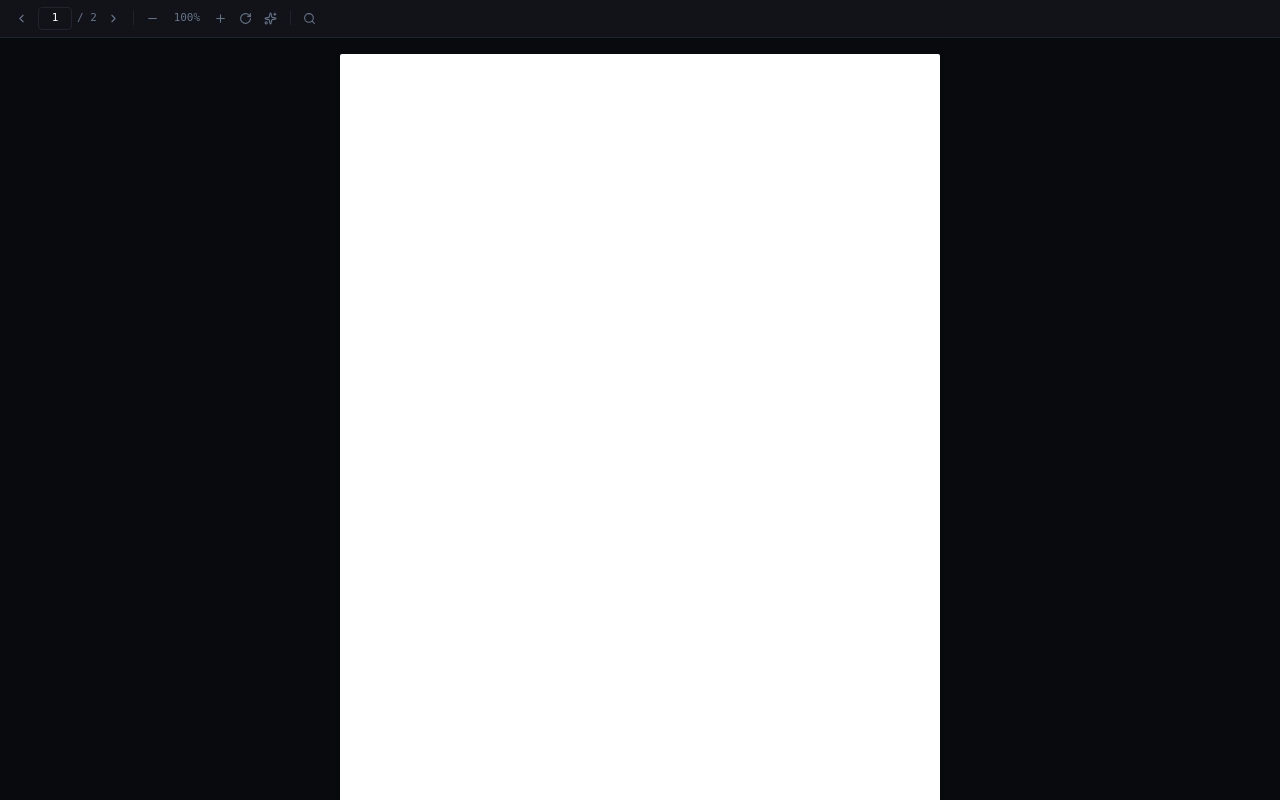
Scenario: PdfViewer › finds text across pages and steps through matches
Expected: the text "/ 2" is shown, [77,10,97,26]
Click the button named "Search in document". click: x=310, y=18
box: [299,7,321,29]
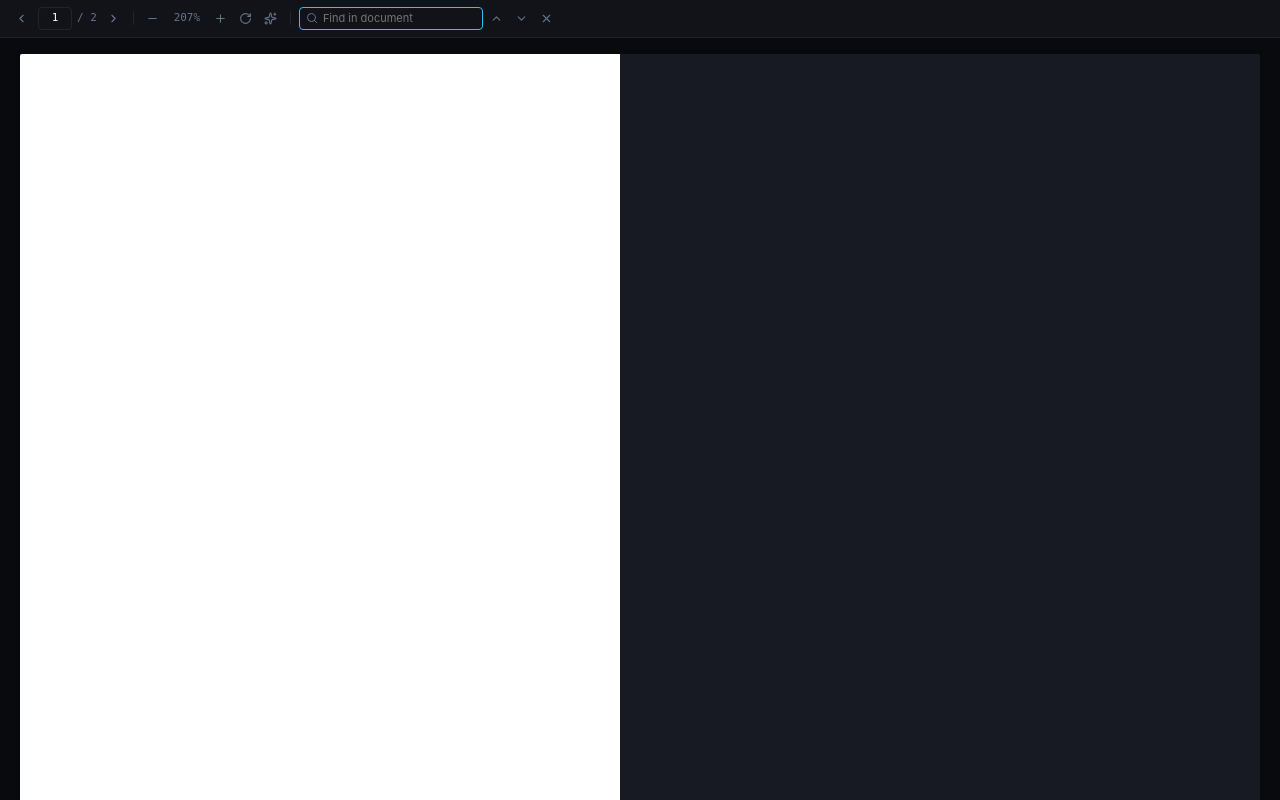
Type "binary" into the field named "Search in document". click: x=383, y=18
box: [323,10,443,26]
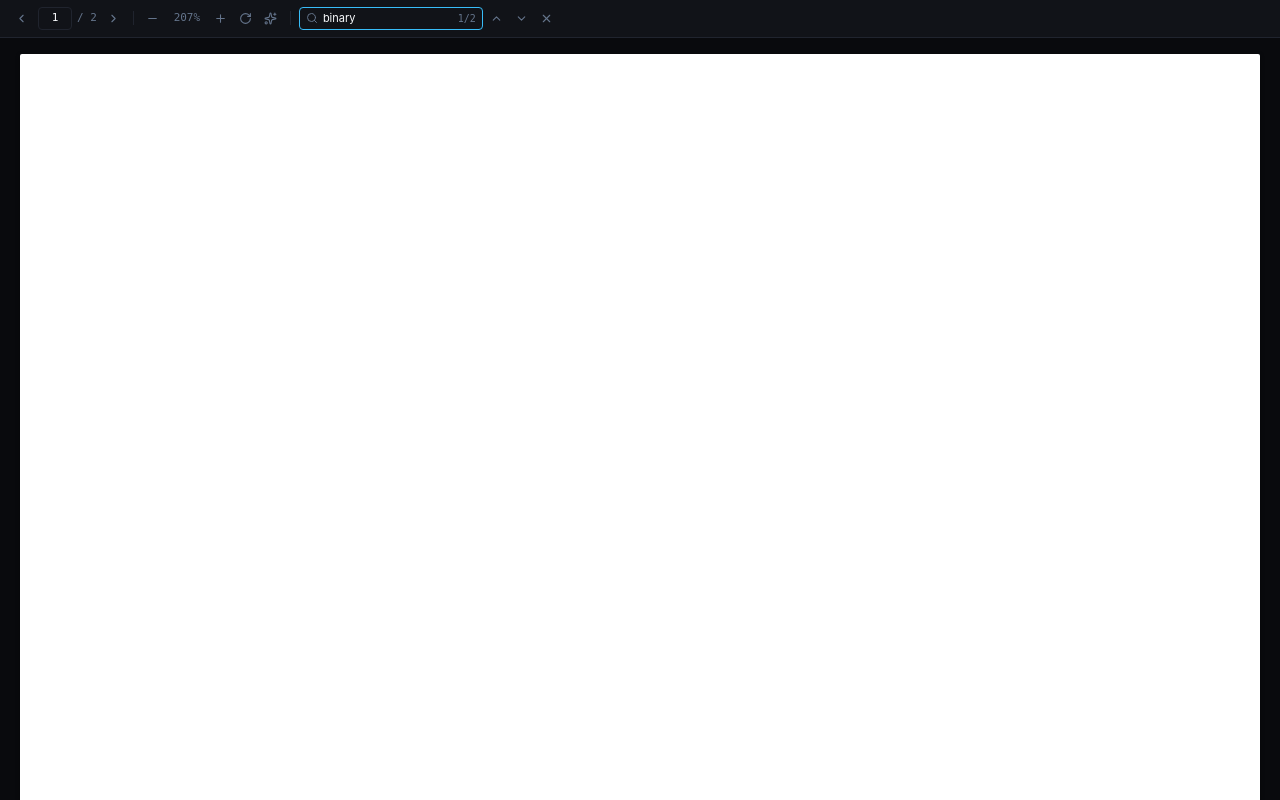
Expected: the field named "Go to page" holds "1", [38,7,72,30]
Expected: the text "1/2" is shown, [458,13,476,24]
Click the button named "Next match". click: x=522, y=18
box: [511,7,533,29]
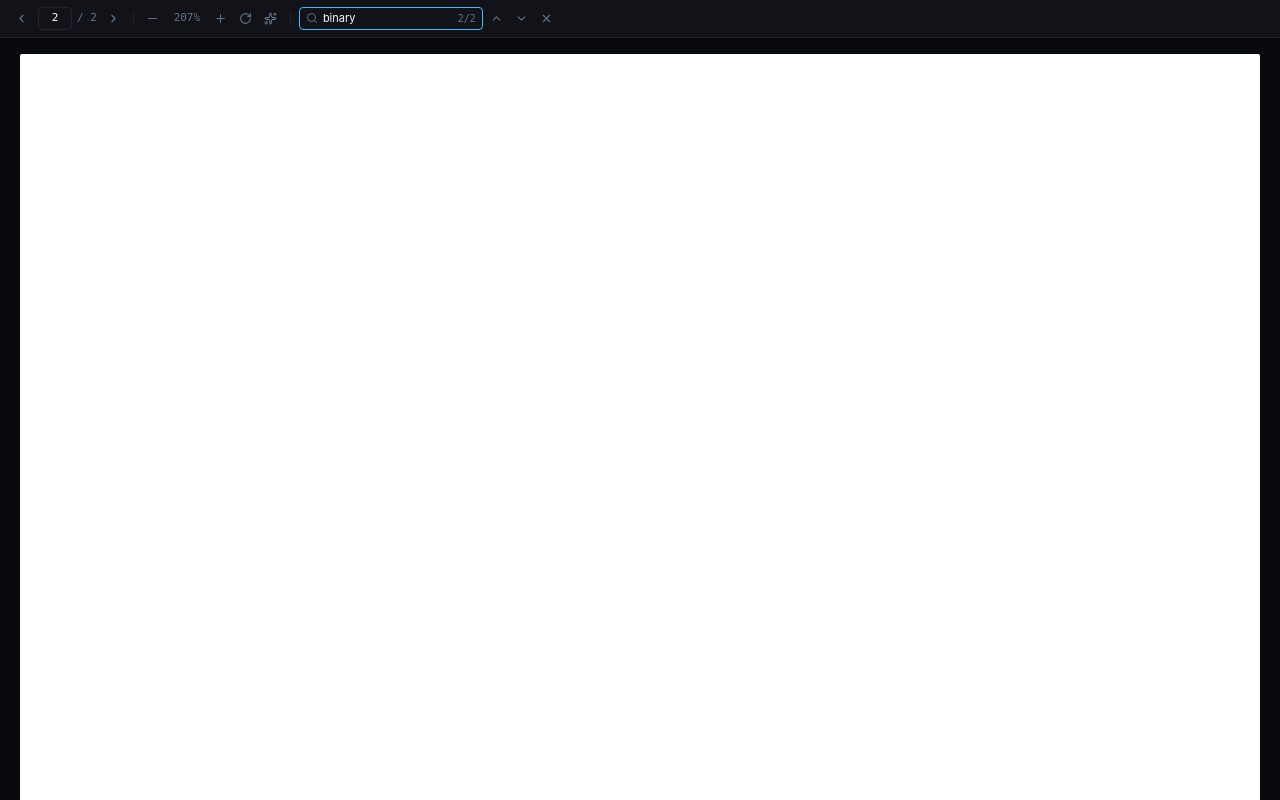
Expected: the text "2/2" is shown, [458,13,476,24]
Expected: the field named "Go to page" holds "2", [38,7,72,30]
